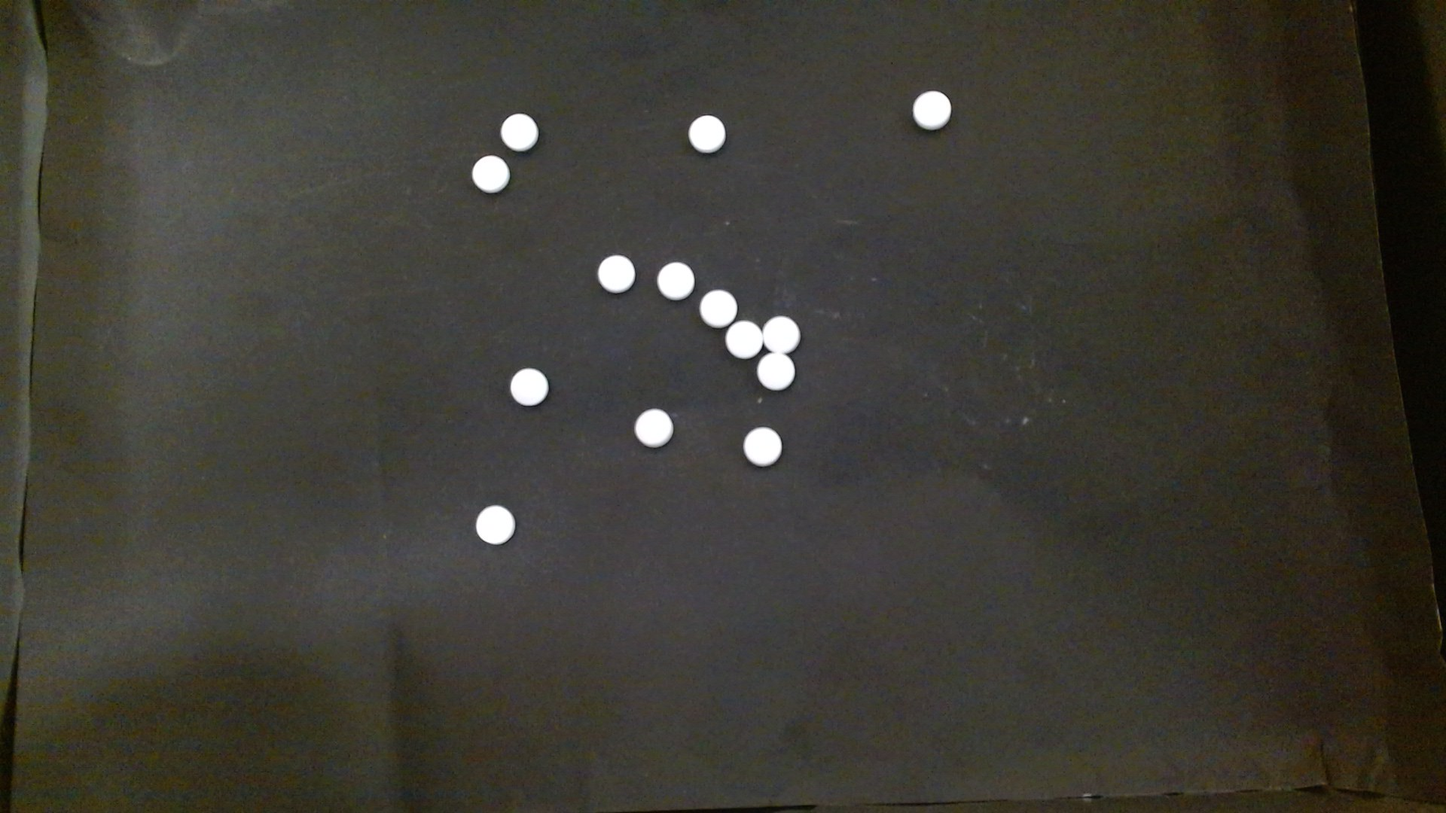Circle: (474, 504, 515, 545), (742, 426, 782, 467), (633, 407, 673, 447), (508, 367, 549, 406), (911, 90, 952, 129), (596, 253, 636, 292), (756, 352, 796, 391), (657, 260, 695, 300), (471, 154, 509, 193), (500, 112, 538, 151), (688, 114, 726, 152), (699, 288, 737, 326), (764, 315, 800, 353), (726, 321, 761, 358)
